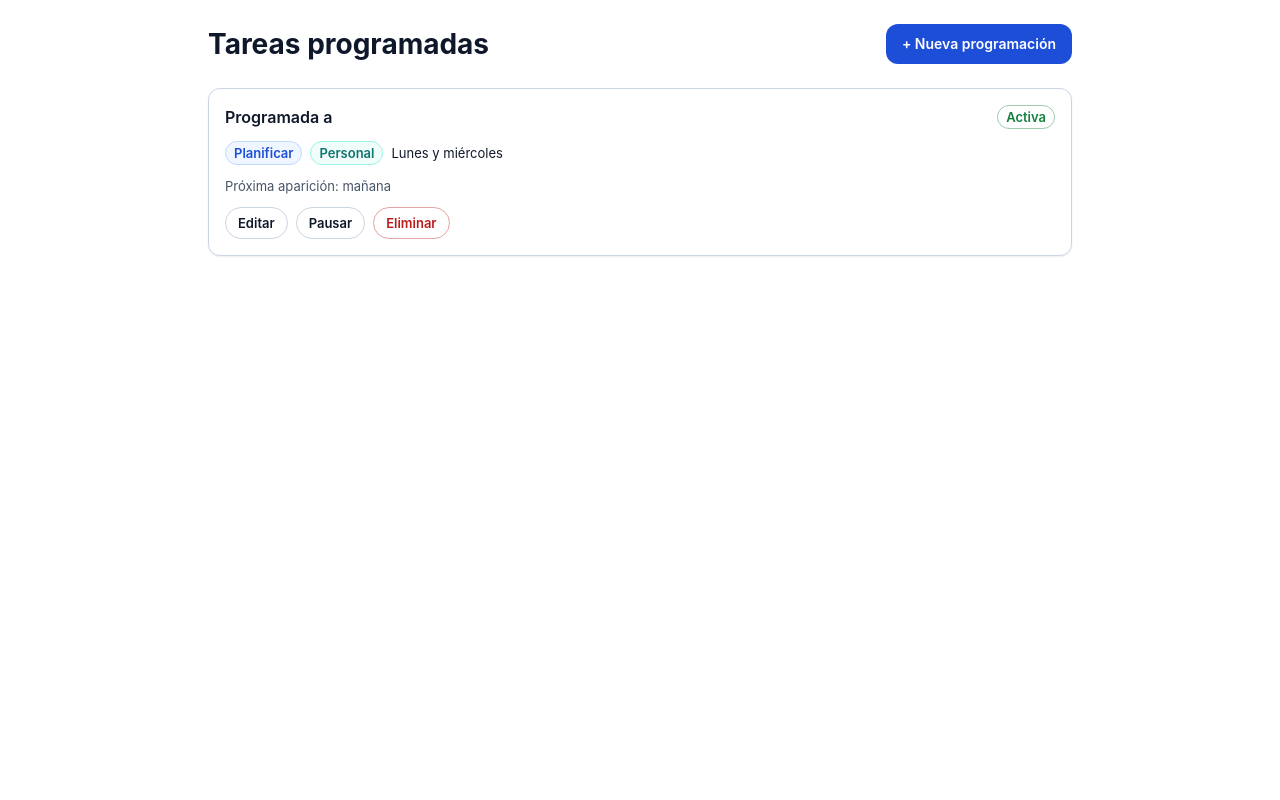
<SchedulesPage> › eliminar pide confirmación y aclara que las tareas ya generadas se quedan
This screenshot has width=1280, height=800.
Click the button "Eliminar" at point(411, 223), box 373,207 -> 450,239
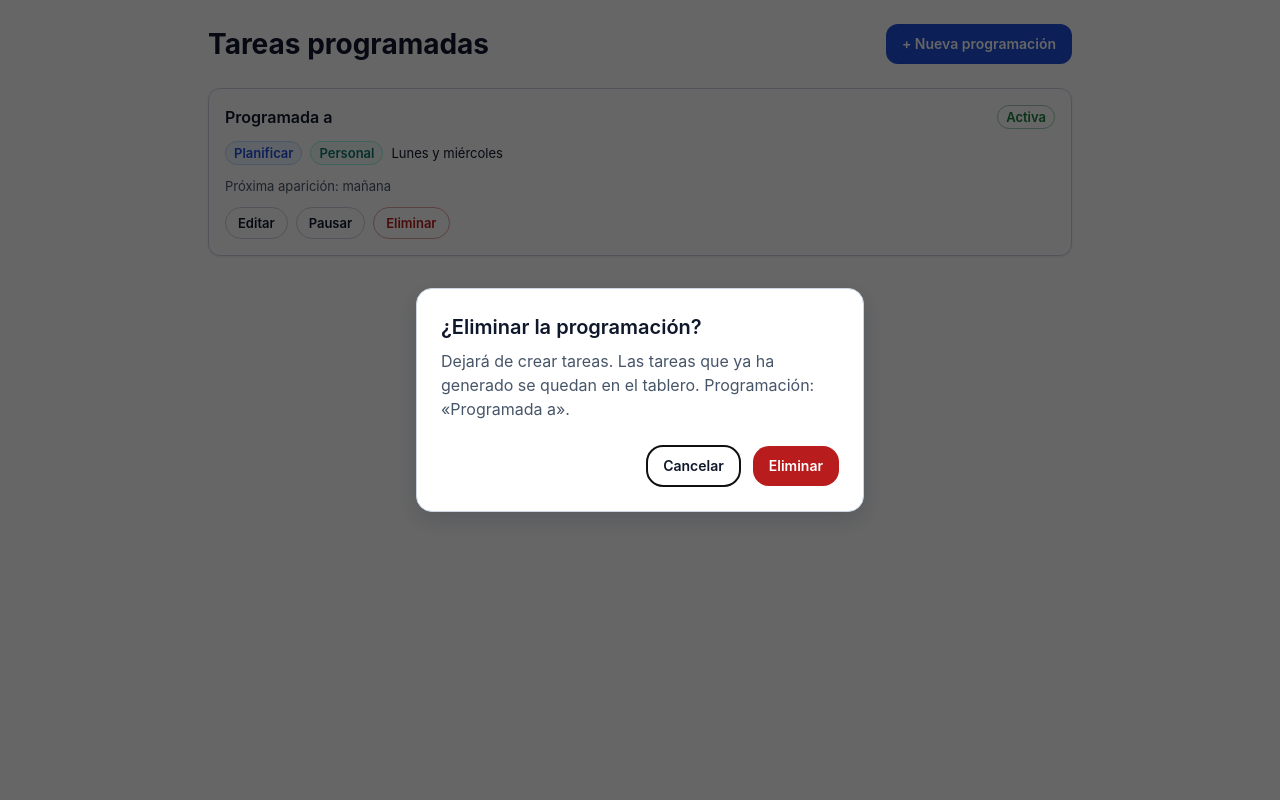
Now the dialog shows "Las tareas que ya ha generado se quedan en el tablero.", box 441,351 -> 814,419
Click the button "Eliminar" at point(796, 466), box 753,446 -> 839,486
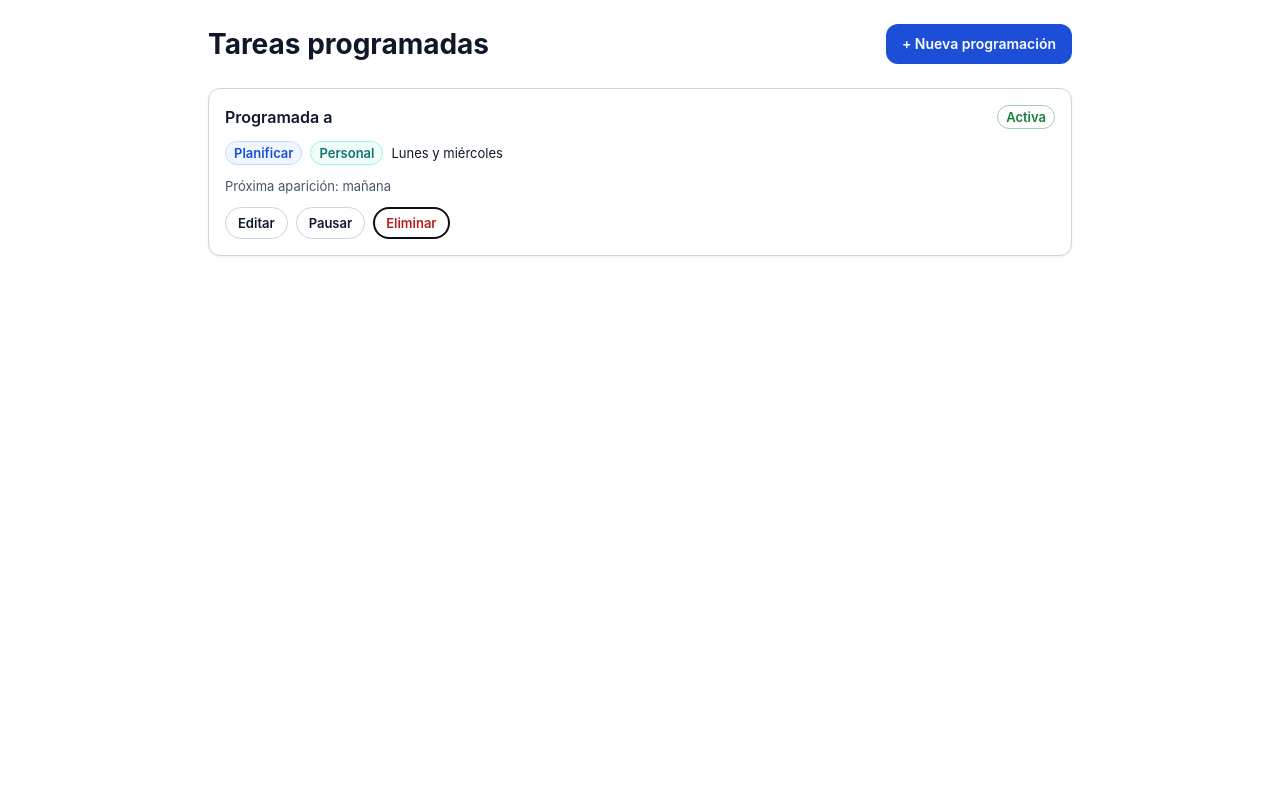
Now the dialog is gone
